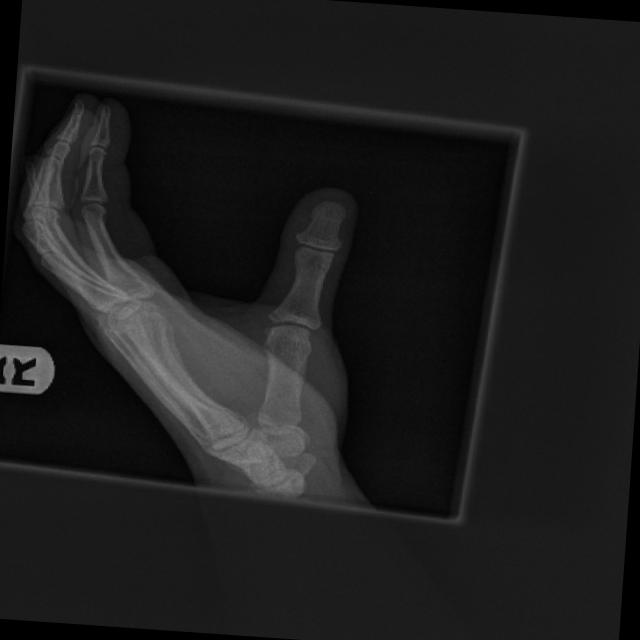fingers positive: (254, 298, 293, 336)
